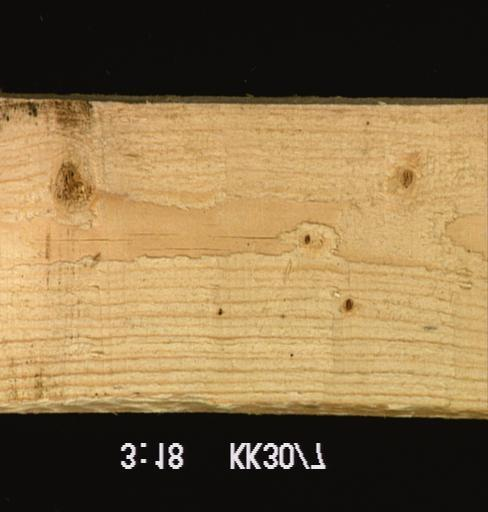dry_knot: (337, 292, 357, 318), (299, 229, 314, 250)
sound_knot: (48, 150, 95, 213), (396, 163, 418, 191)
split: (0, 242, 292, 271)
